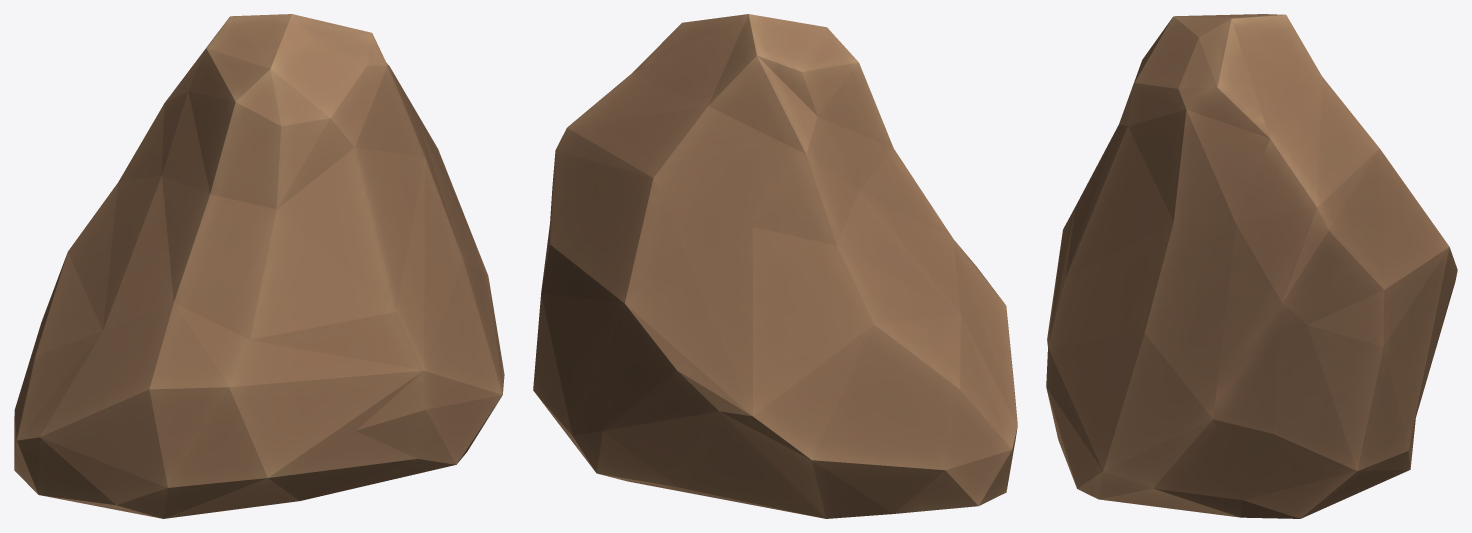
File: Rock_24.fbx
3 renders of one model, left to right at view 1: azimuth 30°, elevation 25°; view 2: azimuth 150°, elevation 25°; view 3: azimuth 270°, elevation 25°, orthographic. The views are drawn at different scales.
Visible parts, largest first — view 1: Rock_24; view 2: Rock_24; view 3: Rock_24.
Boxes of the visible parts, x1,y1,x2,y2 form: Rock_24: [14, 14, 504, 518]; Rock_24: [533, 14, 1017, 518]; Rock_24: [1046, 14, 1457, 518].
Size of the model in its own units: 33.5 by 29.25 by 25.62.
